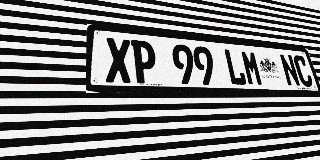9: (171, 44, 197, 85), (192, 45, 217, 85)
C: (292, 55, 314, 87)
L: (223, 48, 247, 86)
M: (240, 50, 264, 86)
N: (279, 54, 301, 87)
P: (131, 40, 158, 84)
X: (105, 37, 132, 83)
